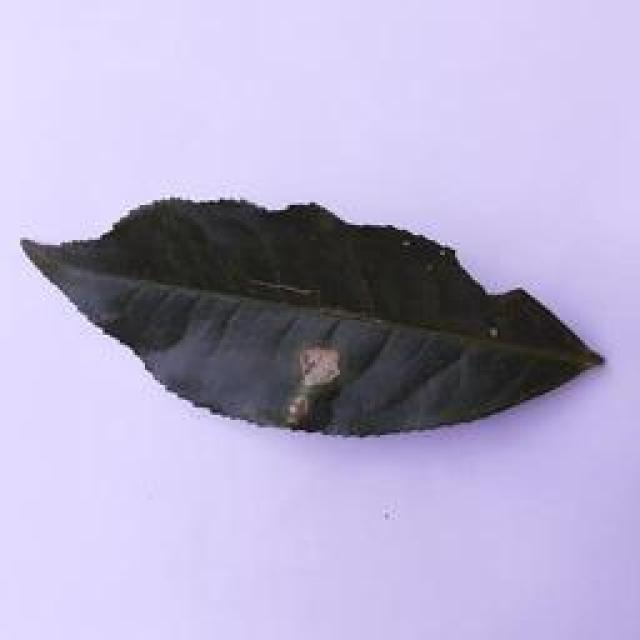Gray Blight: (21, 196, 607, 444)
